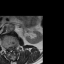CCS_normal: (10, 44, 12, 54)
LFS_stenosis: (14, 44, 16, 49)
LLS_severe_stenosis: (12, 44, 14, 51)
RFS_stenosis: (6, 45, 8, 51)
RLS_stenosis: (8, 45, 10, 52)
